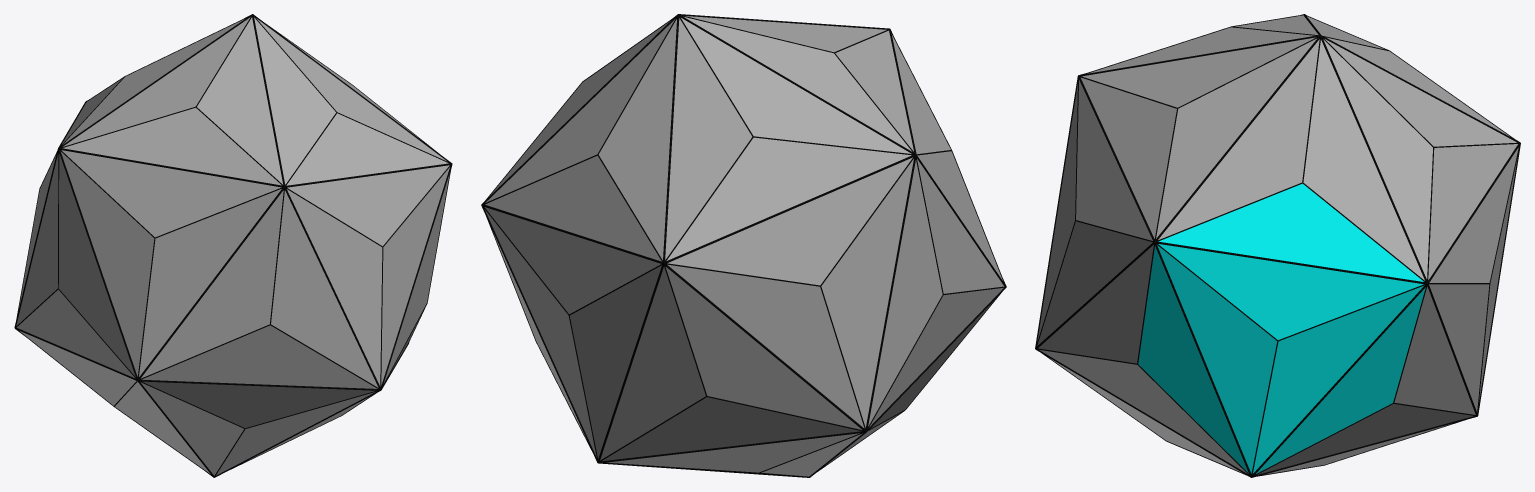
The model's file is TriakisIcosahedron10.glb.
3 views of the same model, side by side, from view 1: azimuth 30°, elevation 25°; view 2: azimuth 150°, elevation 25°; view 3: azimuth 270°, elevation 25° (orthographic). The views are drawn at different scales.
Bounding box in the file's own units: 5.9 × 6.69 × 6.36.
